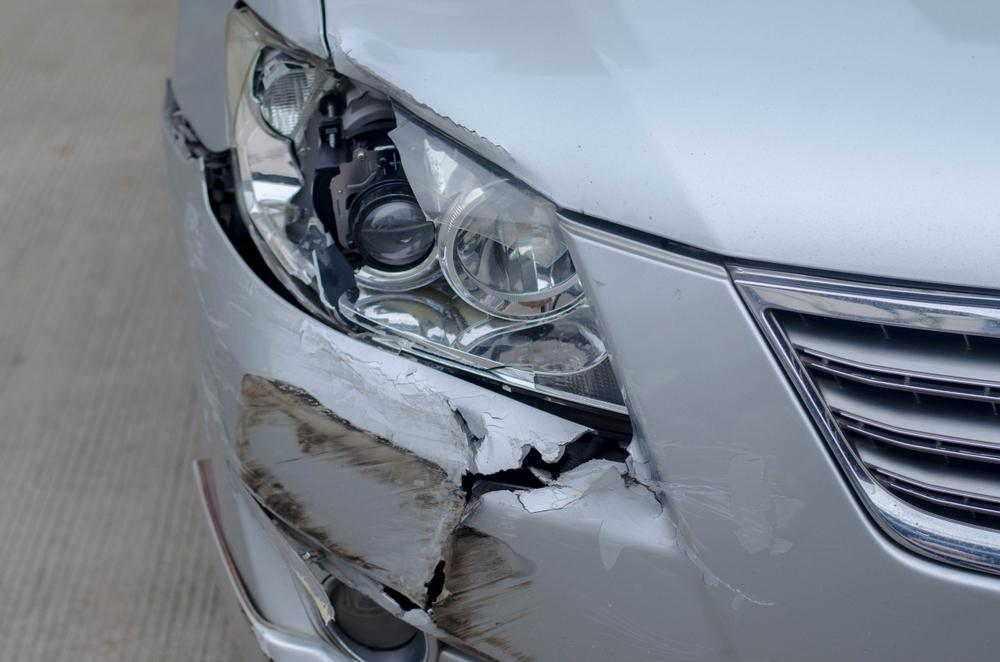crack: (464, 429, 667, 517), (378, 559, 448, 615), (451, 409, 486, 446)
lamp broken: (220, 7, 631, 408)
scratch: (175, 203, 460, 599), (435, 497, 538, 662)
